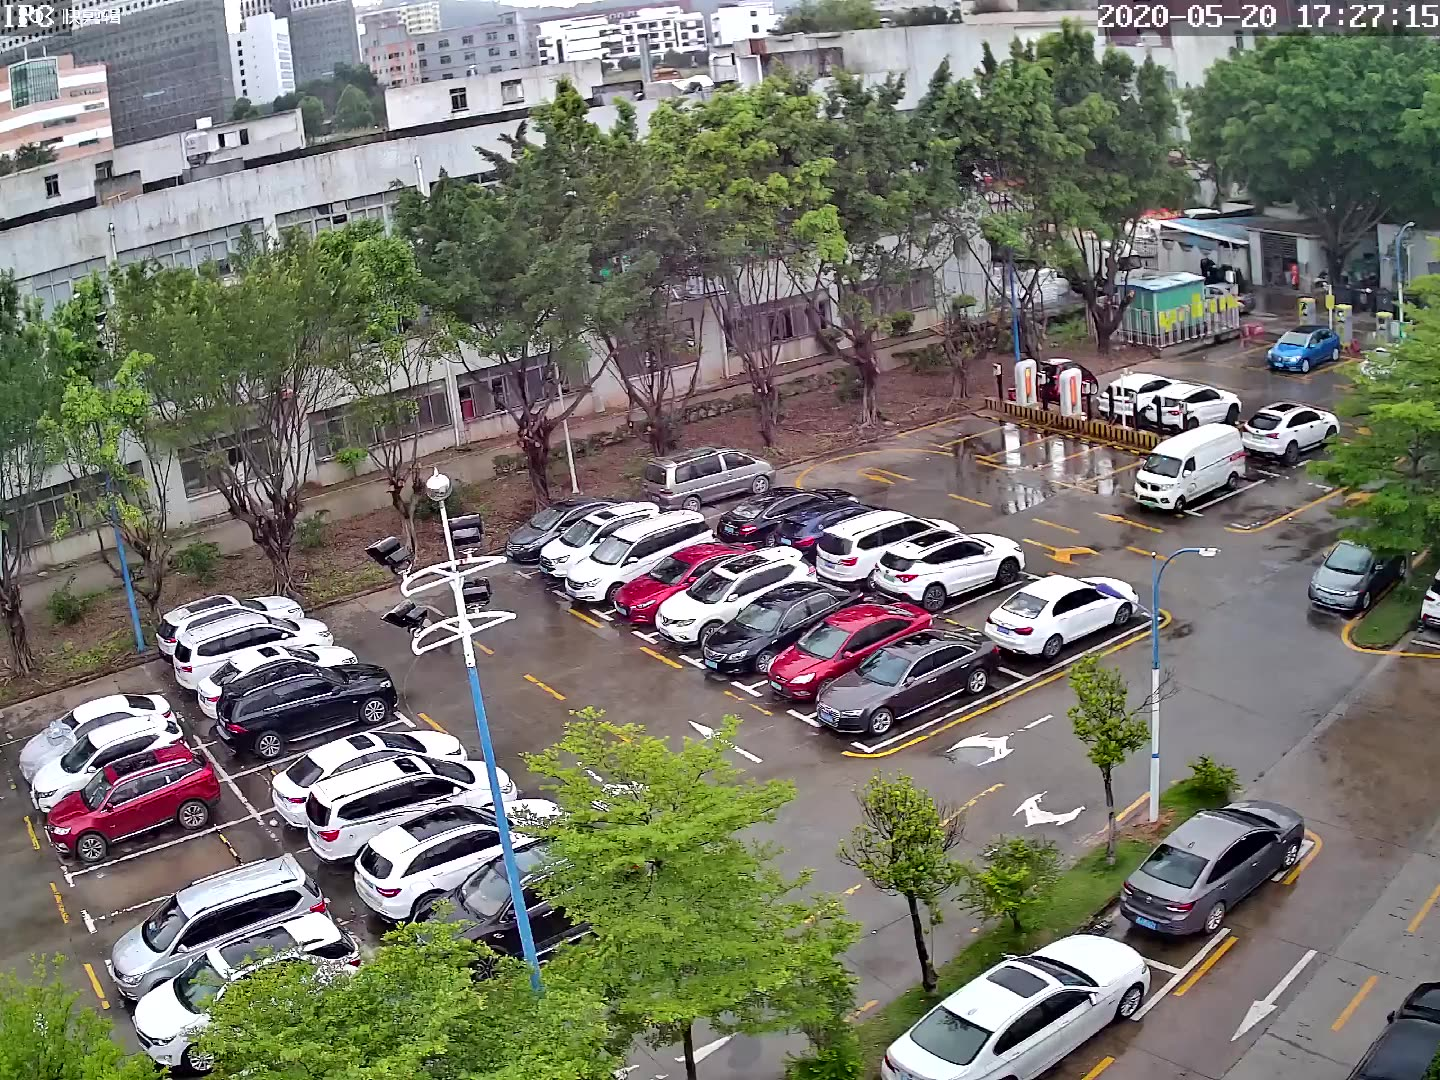Car: (880, 934, 1150, 1080), (133, 913, 364, 1074), (109, 855, 328, 1004), (355, 799, 559, 923), (1120, 801, 1306, 937), (305, 756, 517, 864), (413, 839, 594, 962), (45, 744, 221, 864), (814, 628, 1002, 737), (272, 731, 468, 829), (215, 659, 397, 761), (654, 545, 818, 647), (766, 601, 932, 701), (32, 715, 189, 812), (702, 581, 866, 674), (564, 511, 714, 605), (19, 694, 177, 784), (985, 575, 1140, 661), (172, 611, 334, 692), (873, 529, 1026, 611), (197, 644, 358, 718), (615, 542, 756, 625), (815, 511, 959, 591), (155, 594, 305, 664), (1133, 424, 1246, 513), (539, 503, 661, 582), (1348, 981, 1440, 1080), (715, 487, 859, 548), (1307, 531, 1408, 615), (643, 447, 776, 511), (774, 499, 896, 562), (505, 498, 618, 564), (1242, 403, 1339, 464), (1144, 383, 1240, 432), (1098, 373, 1179, 427), (1264, 326, 1341, 374), (1077, 238, 1145, 285), (1036, 360, 1099, 400), (1204, 282, 1256, 313), (1359, 346, 1399, 381), (1418, 568, 1440, 633)
